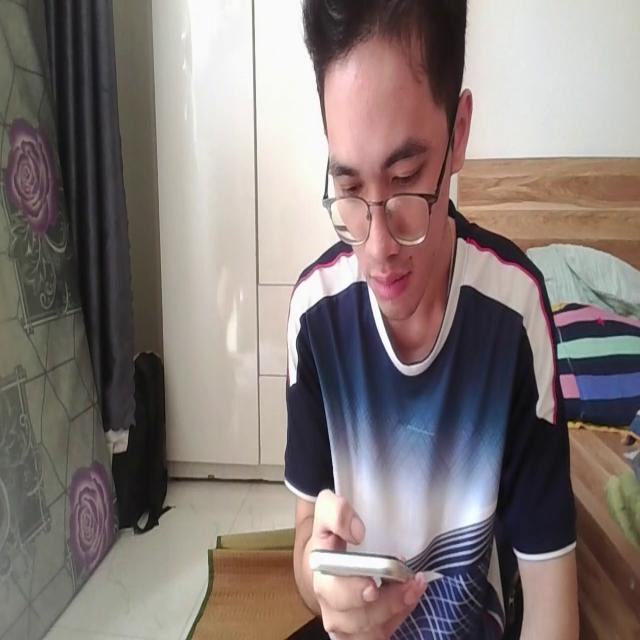phone: (309, 538, 419, 589)
student: (281, 6, 577, 640)
